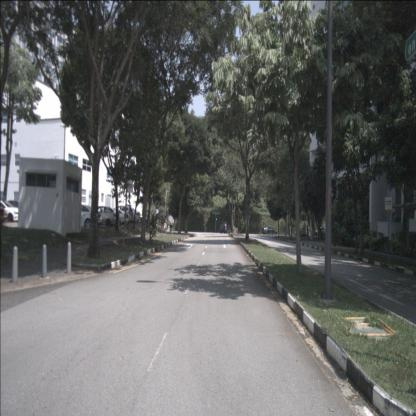human-pedestrian-adult: (162, 215, 167, 234)
vehicle-car: (68, 204, 96, 229), (88, 206, 120, 227), (0, 199, 22, 223), (110, 204, 134, 224), (101, 208, 126, 226), (118, 208, 140, 224), (261, 226, 278, 235), (313, 227, 328, 236), (220, 222, 231, 234)
